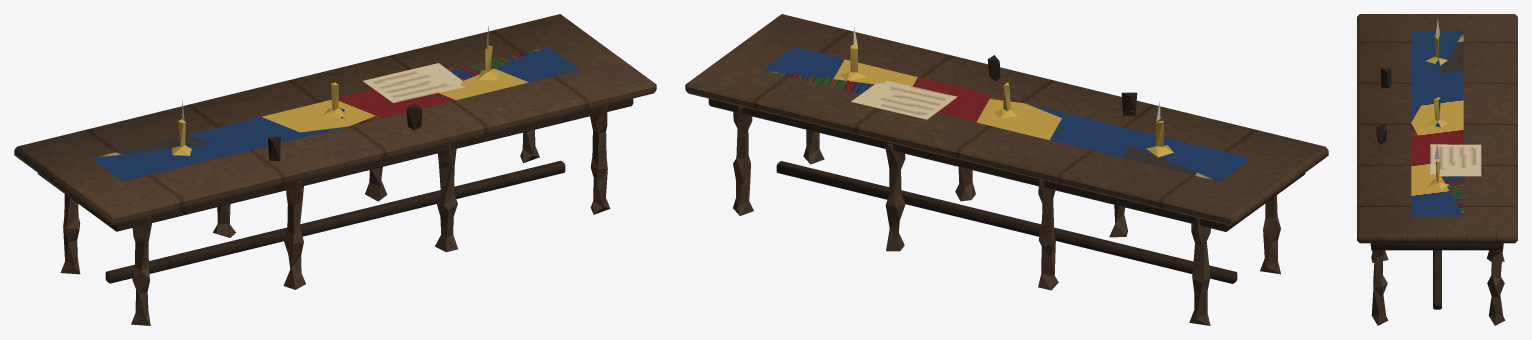
File: meeting_table_lod2.glb
The picture shows the model from 3 angles, left to right: view 1: azimuth 30°, elevation 25°; view 2: azimuth 150°, elevation 25°; view 3: azimuth 270°, elevation 25°; orthographic projection. The views are drawn at different scales.
Visible parts, largest first — view 1: meeting_table; view 2: meeting_table; view 3: meeting_table.
Boxes of the visible parts, box(x1,y1,x2,y2) form: meeting_table: box(14, 14, 656, 325); meeting_table: box(685, 14, 1328, 325); meeting_table: box(1357, 14, 1517, 325).
Size of the model in its own units: 3.6 by 1.12 by 1.1.
1 material, 1 textured.
